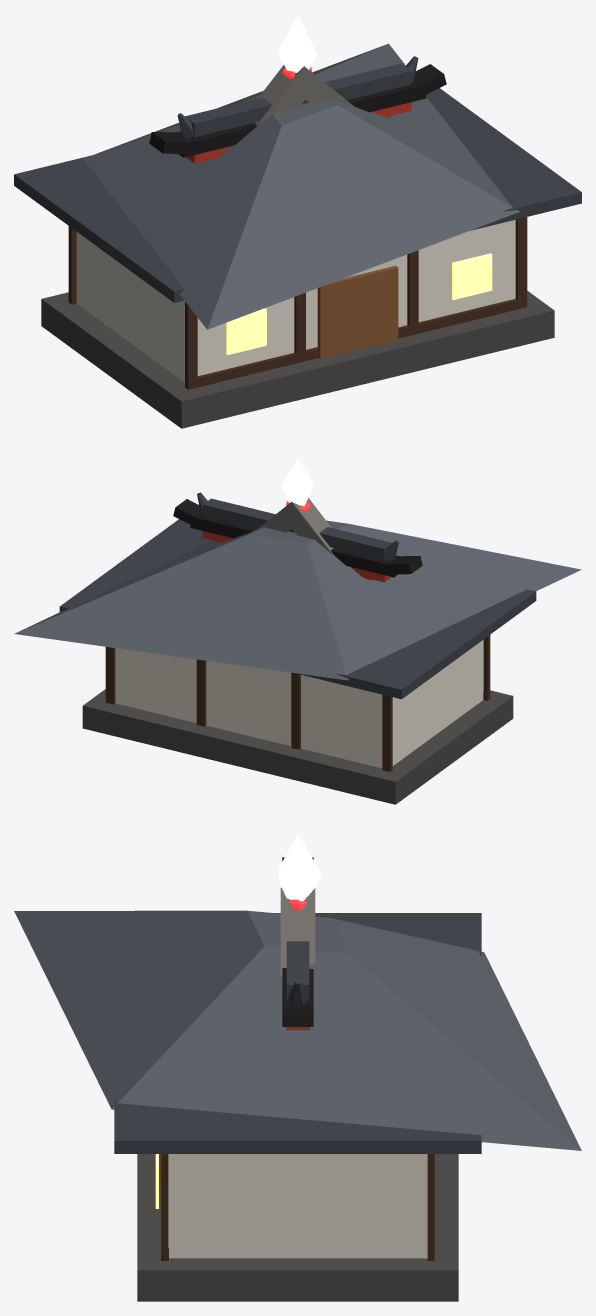
The model's file is props.glb.
3 renders of one model, top to bottom at view 1: azimuth 30°, elevation 25°; view 2: azimuth 150°, elevation 25°; view 3: azimuth 270°, elevation 25°, orthographic. The views are drawn at different scales.
Parts seen in each view (by area): view 1: House, Torii, SpawnGate, Tower; view 2: House, Torii, SpawnGate, Tower; view 3: House, SpawnGate, Tower, Torii.
Boxes of the visible parts, box(x1,y1,x2,y2) form: House: box(14, 43, 581, 428); Torii: box(149, 64, 446, 163); SpawnGate: box(258, 65, 355, 122); Tower: box(277, 15, 316, 72); House: box(14, 492, 581, 804); Torii: box(173, 499, 422, 582); SpawnGate: box(257, 498, 333, 555); Tower: box(281, 457, 313, 505); House: box(14, 910, 581, 1301); SpawnGate: box(280, 887, 315, 976); Tower: box(278, 834, 321, 901); Torii: box(282, 857, 313, 1030).
Bounding box in the file's own units: 9.9 × 7.52 × 9.9.
